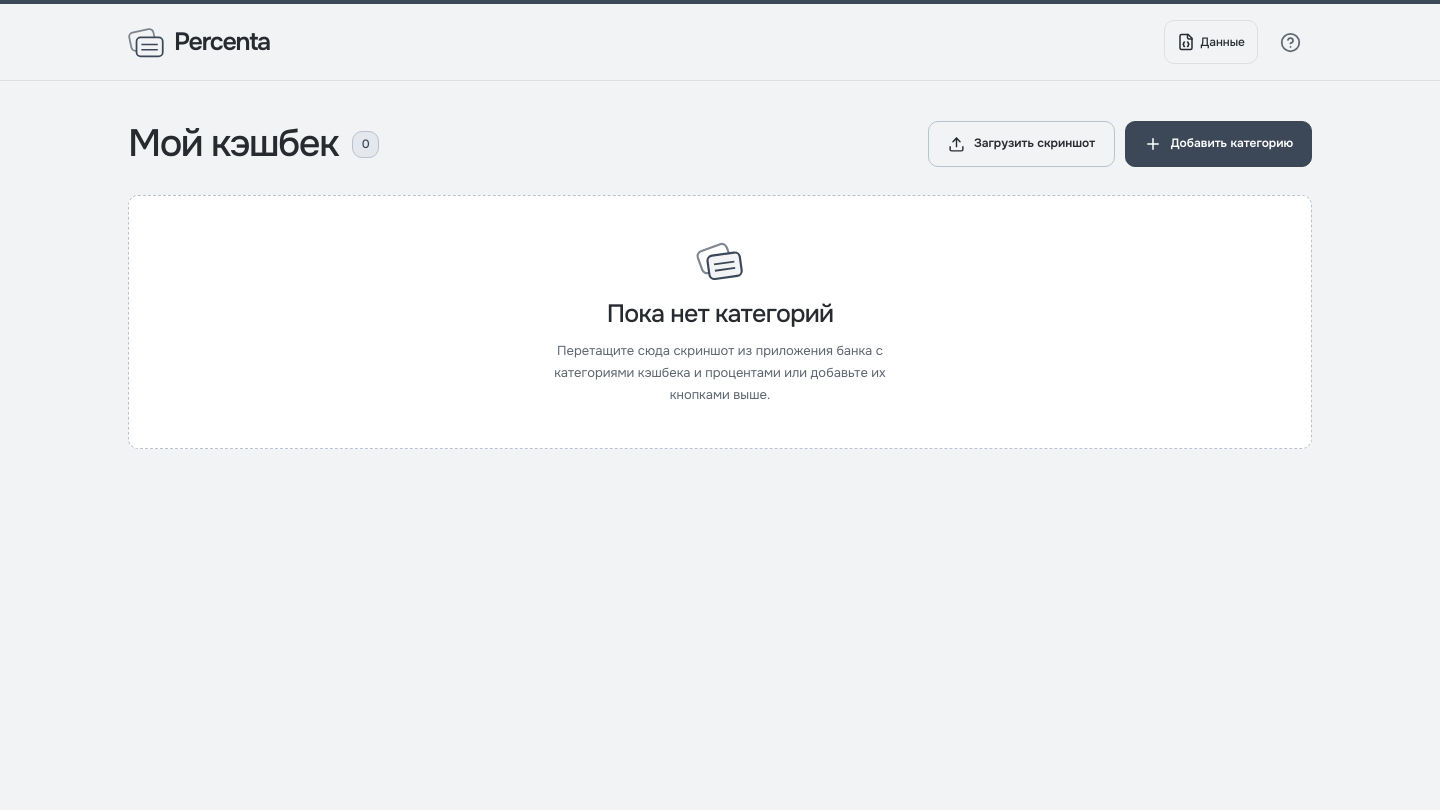
Test: основные пользовательские сценарии › проверяет процент и не сохраняет 101%
Click the button "Добавить категорию".
click(1218, 144)  # box [1125, 121, 1312, 167]
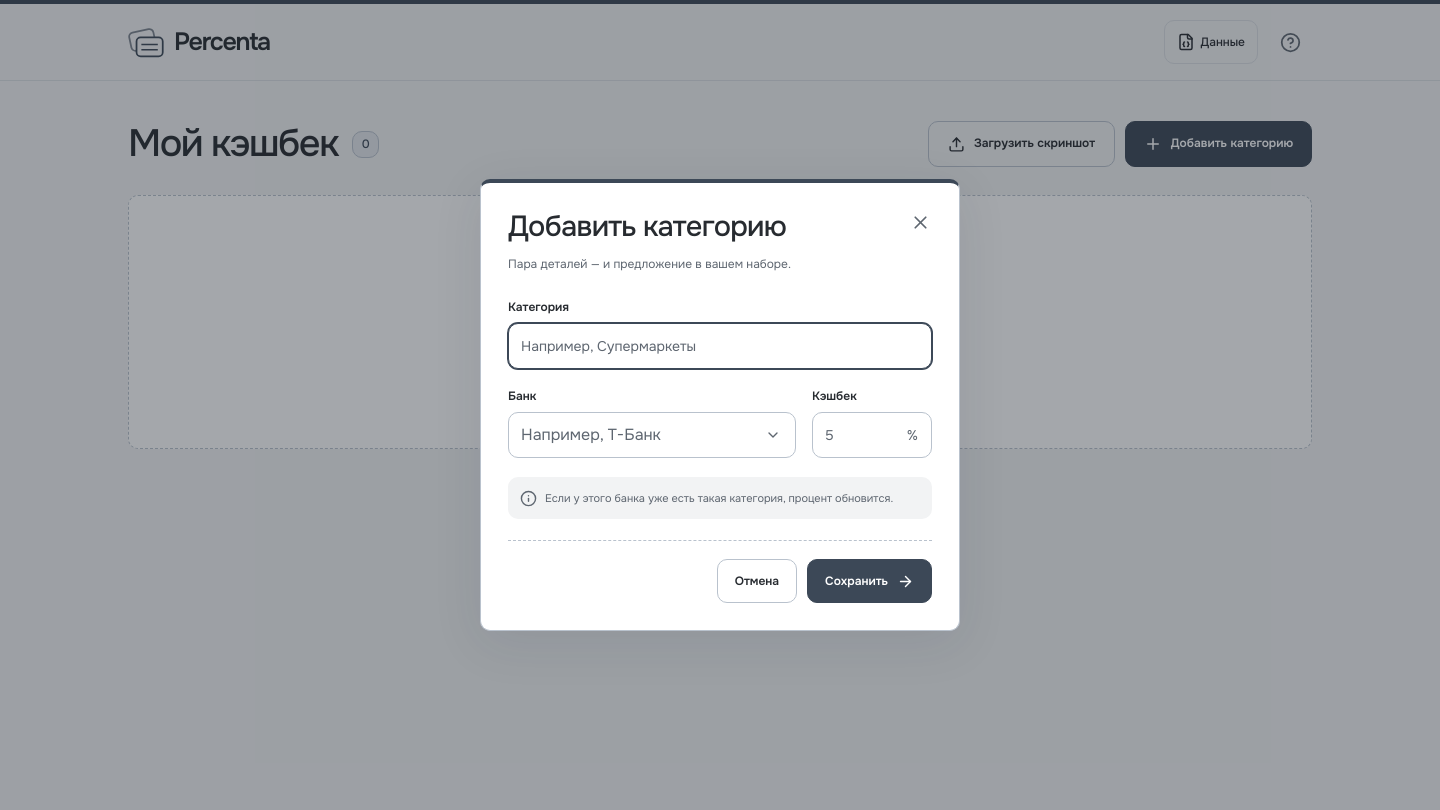
Type "Аптеки" into the field labelled "Категория".
click(720, 346); type("Аптеки")  # box [509, 324, 931, 368]
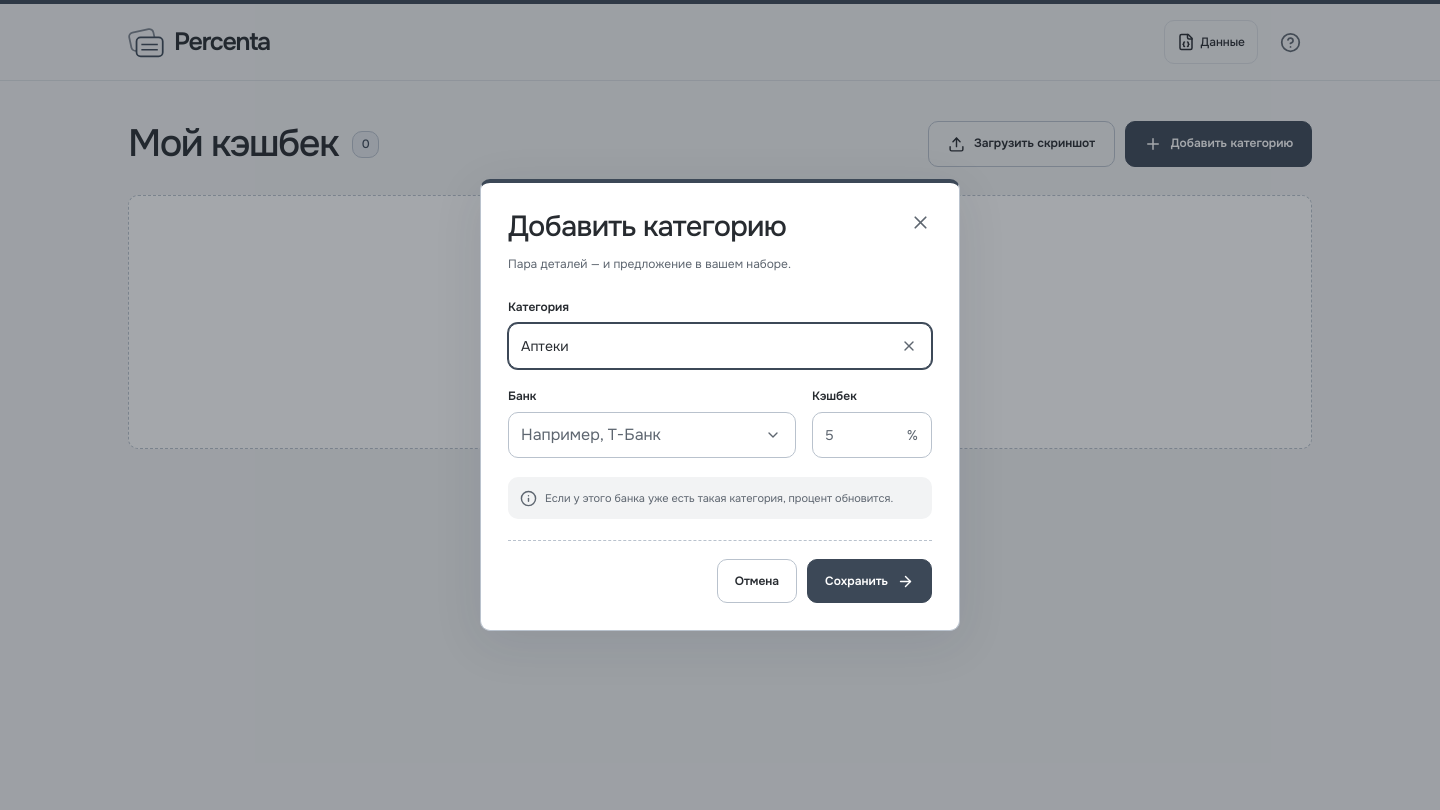
Type "Банк" into the field labelled "Банк".
click(630, 435); type("Банк")  # box [509, 413, 751, 457]
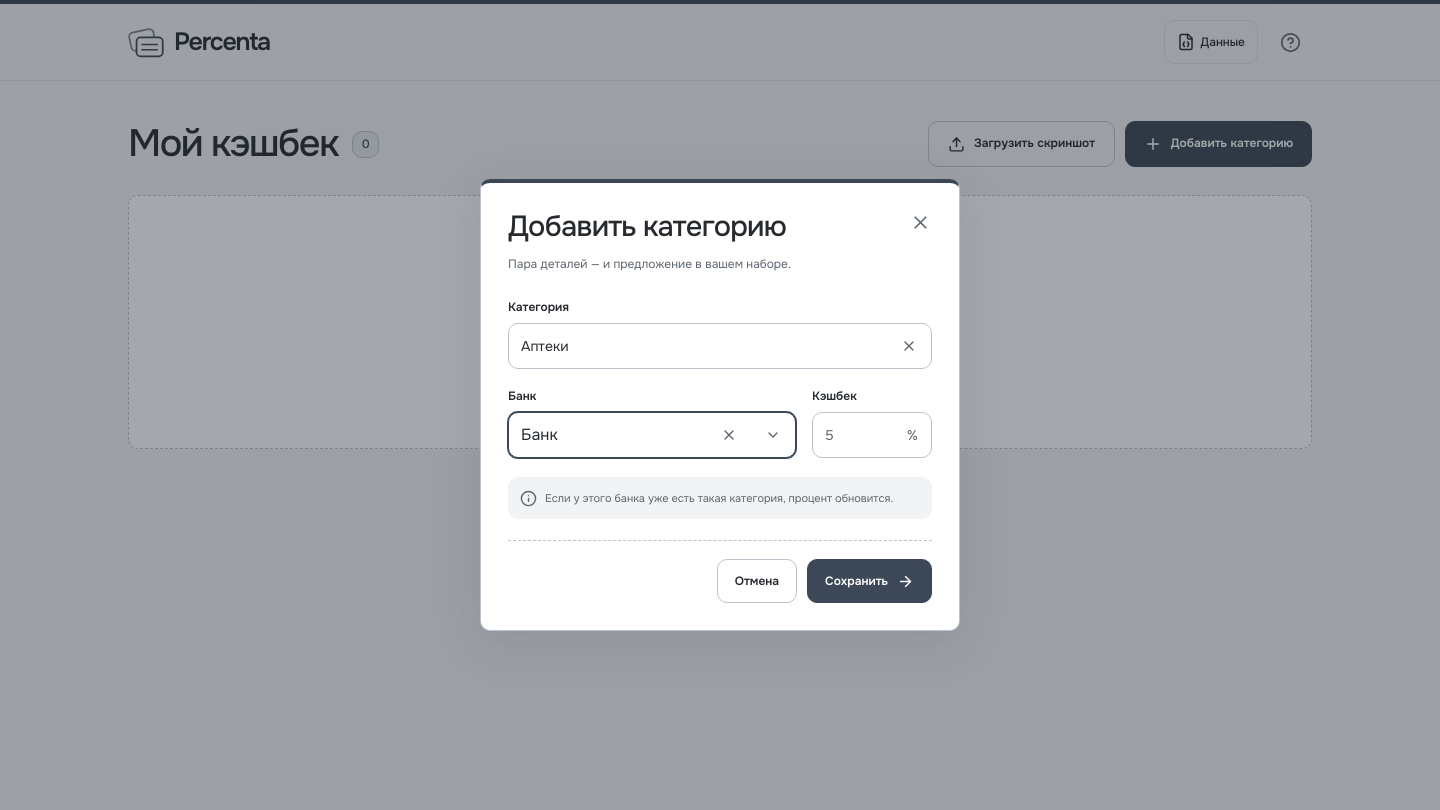
Type "101" into the field named "Процент кэшбека".
click(860, 435); type("101")  # box [813, 413, 907, 457]
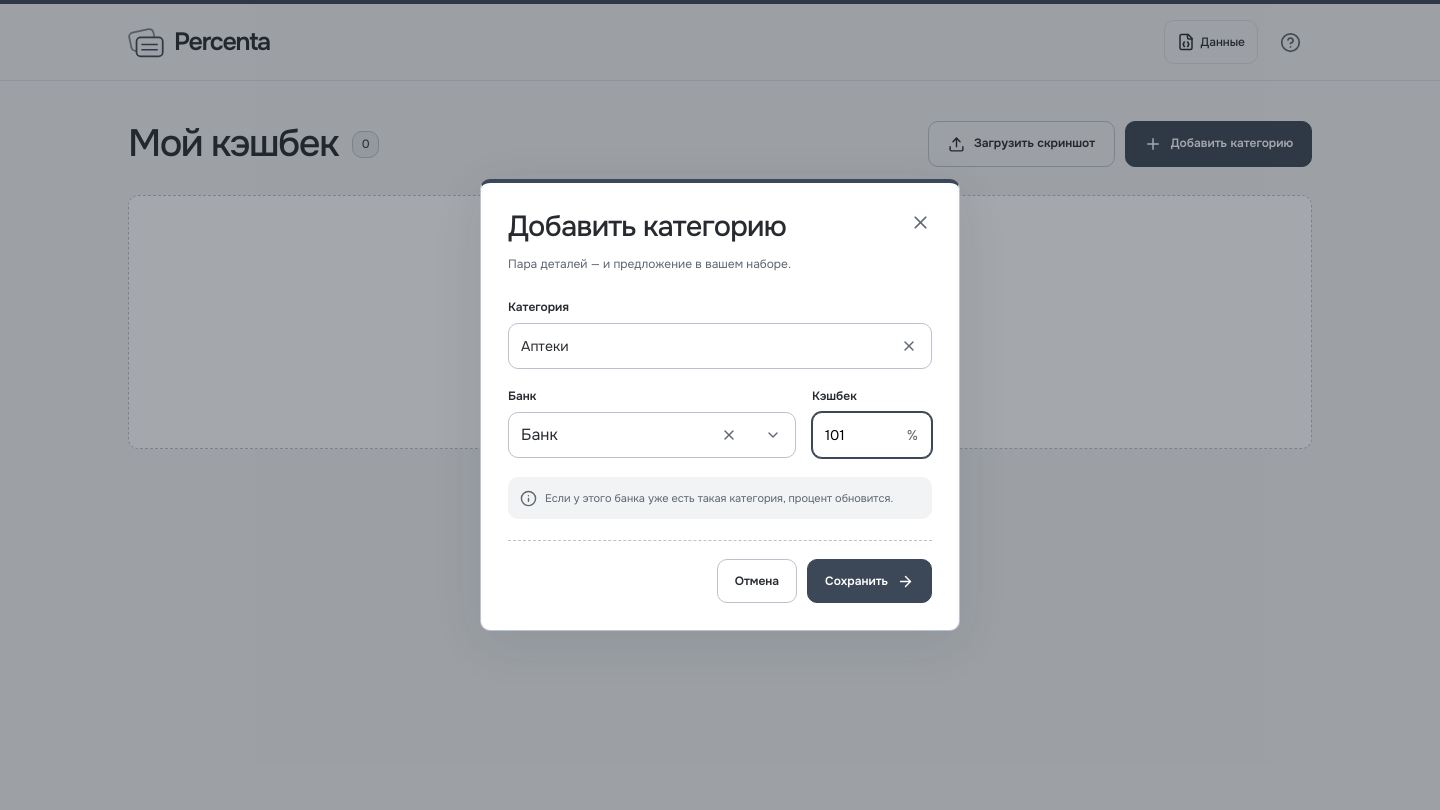
Submit the form, box [508, 299, 932, 604]
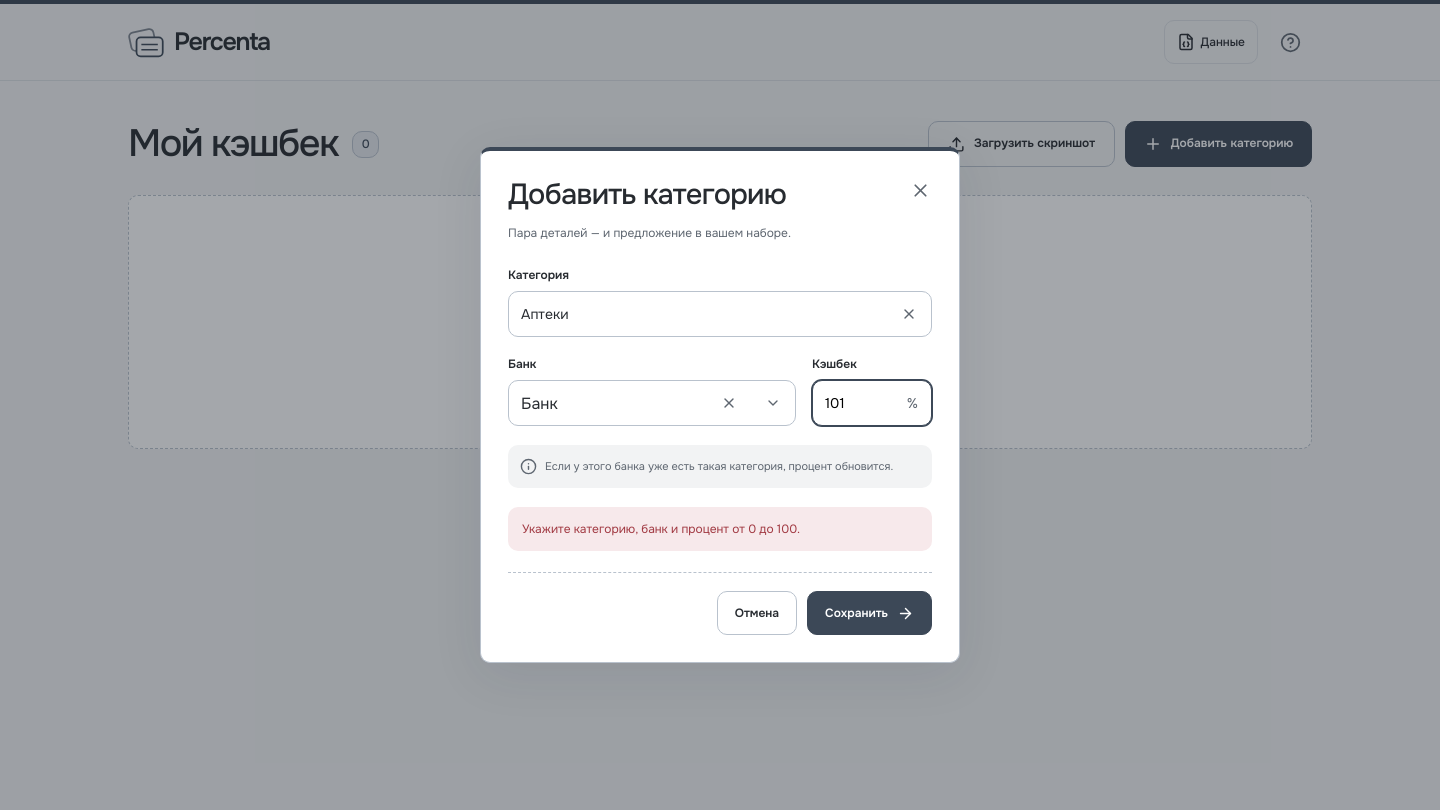
expect the text "Укажите категорию, банк и процент от 0 до 100." is shown: met, box [508, 507, 932, 551]
